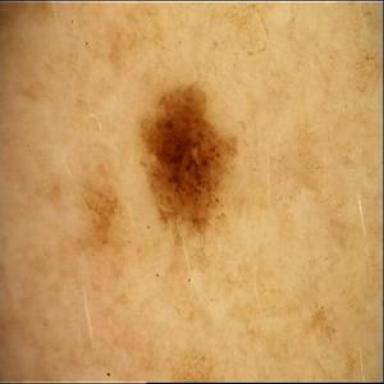Melanoma: (143, 84, 235, 245)
